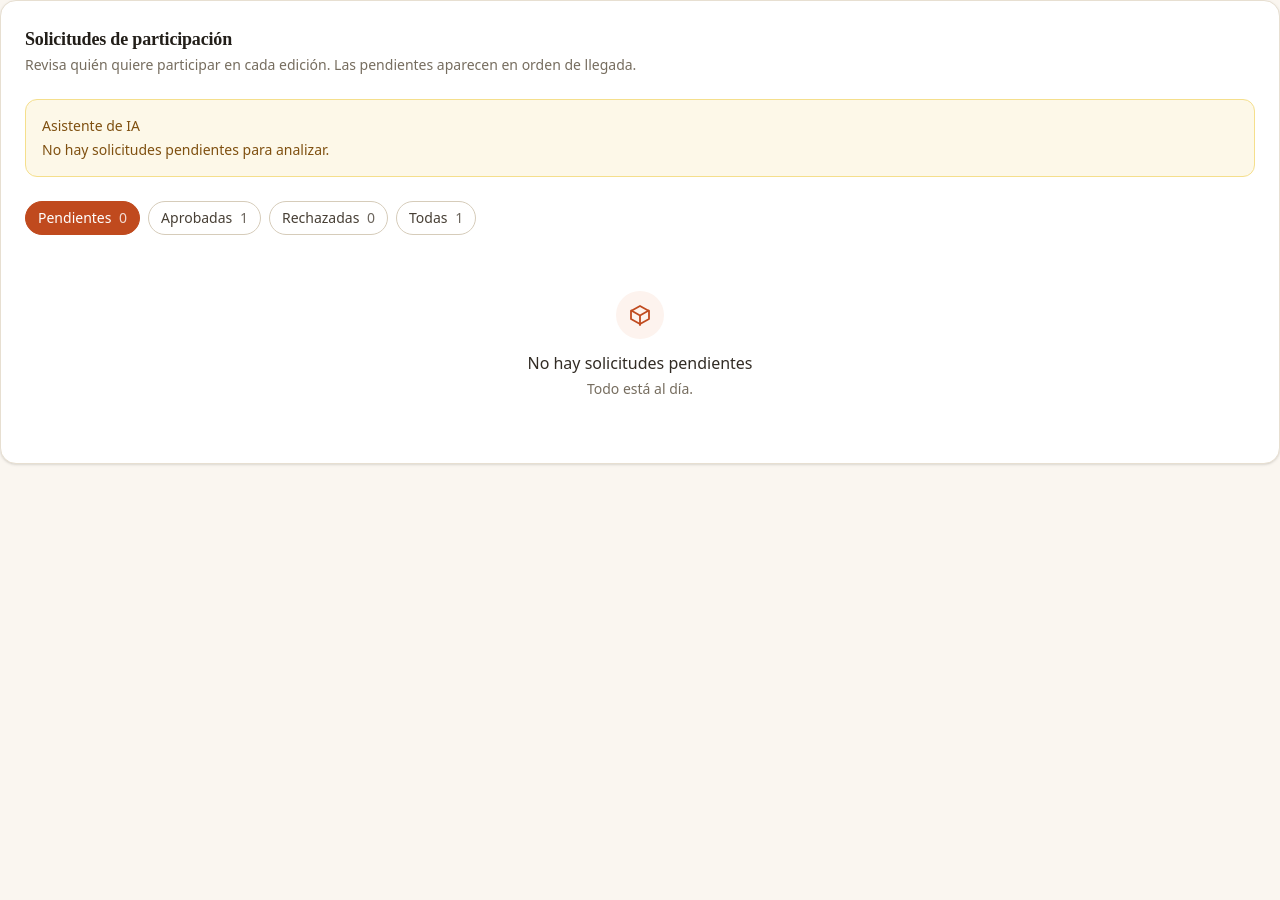
Scenario: GestionSolicitudes: acciones › cambiar una aprobada a rechazada pide confirmación
Step 1. Click the button "Aprobadas 1" → click(204, 218), box [148, 201, 261, 235]
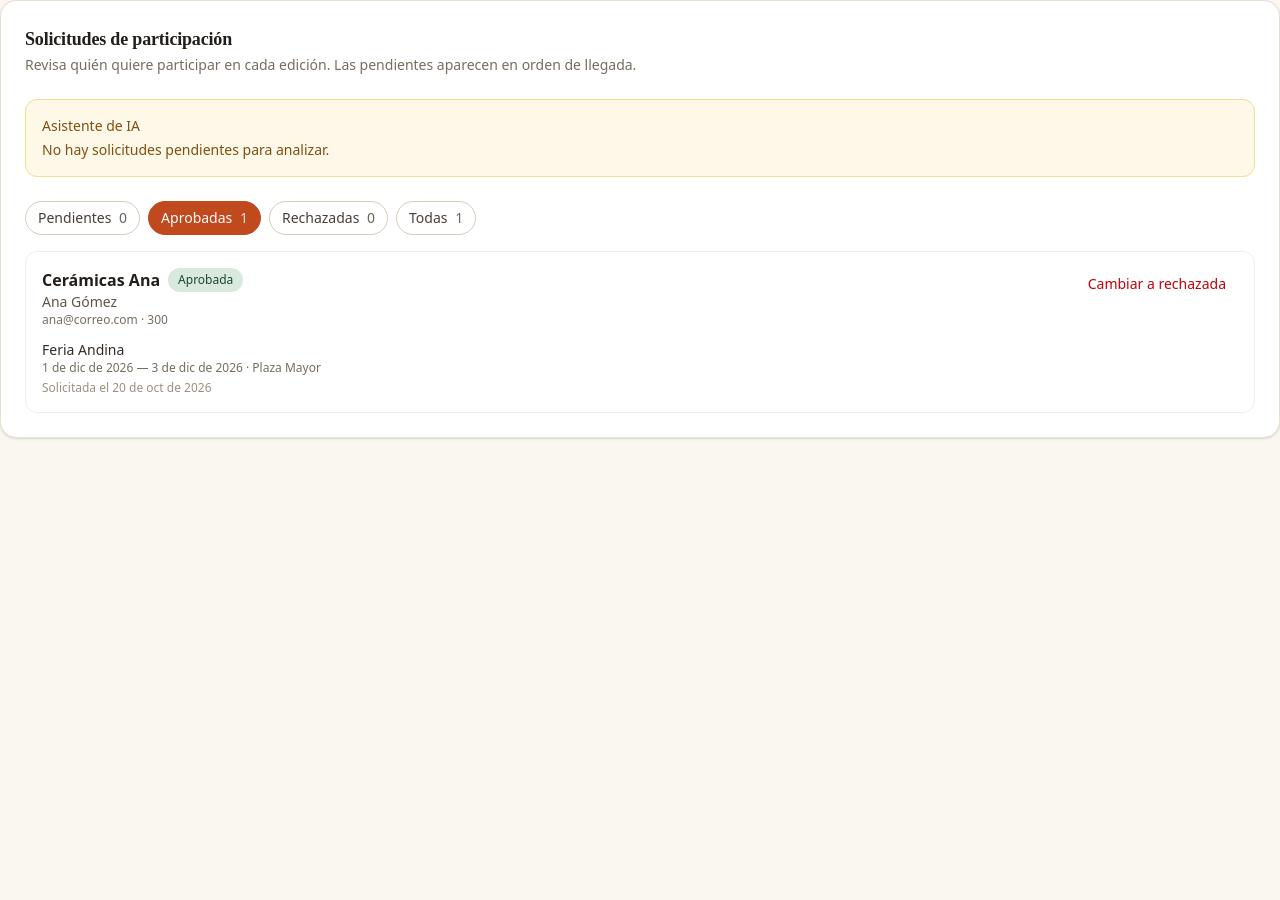
Step 2. Click the button "Cambiar a rechazada" → click(1157, 284), box [1076, 268, 1238, 300]
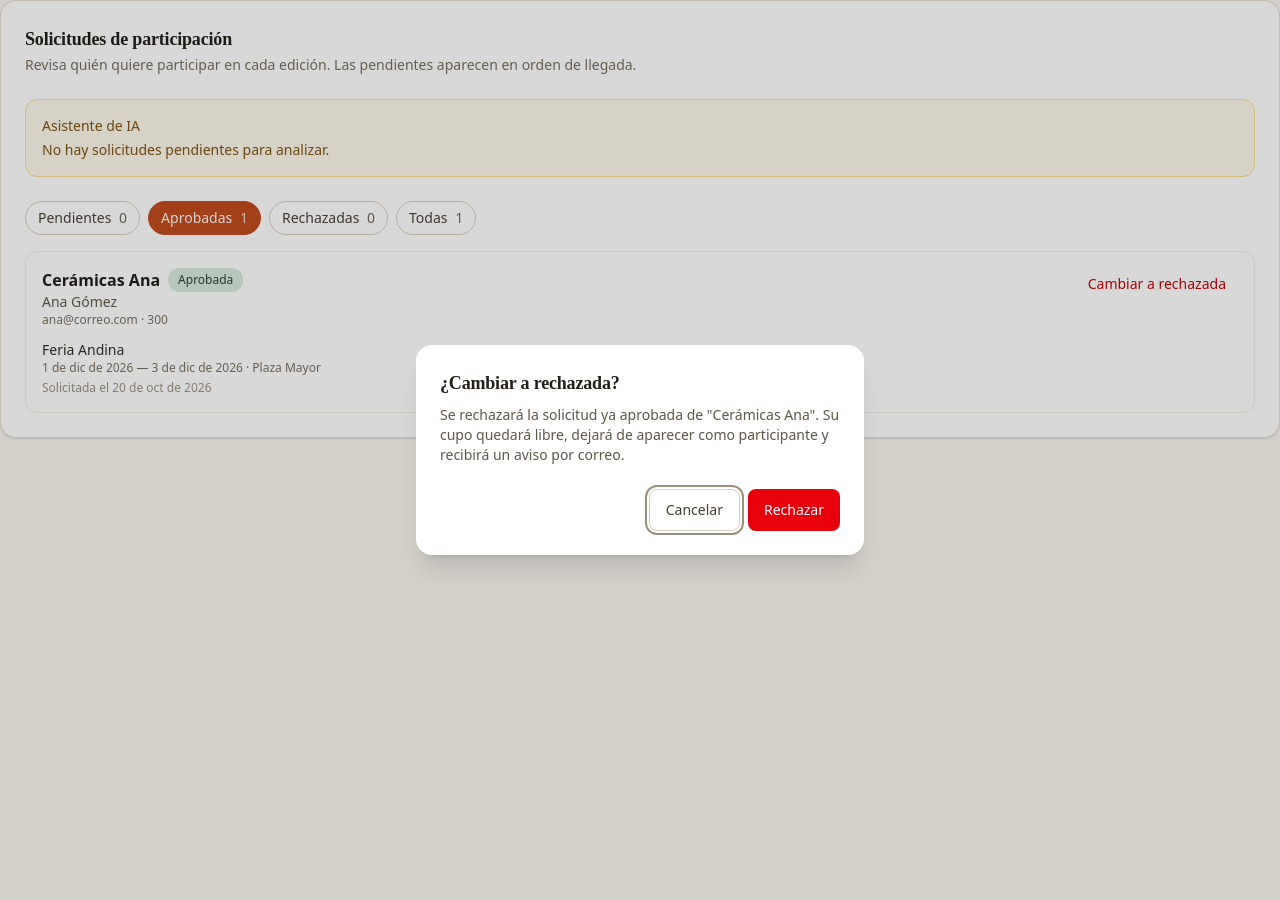
Expected: the heading "¿Cambiar a rechazada?" is shown, [440, 373, 620, 393]
Expected: the text "ya aprobada de \"Cerámicas Ana\"" is shown, [440, 405, 839, 464]
Step 3. Click the button "Rechazar" → click(794, 510), box [748, 489, 840, 531]
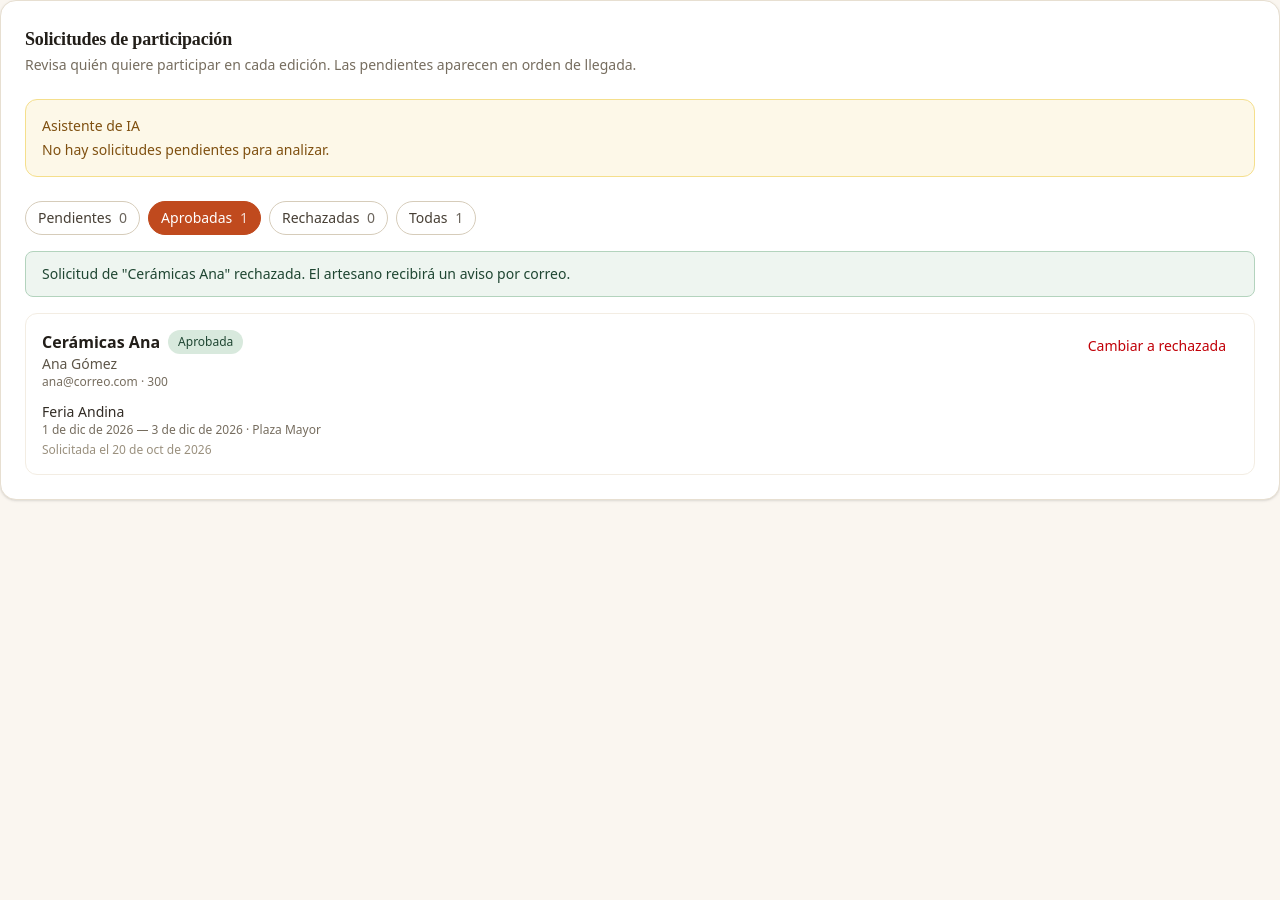
Expected: the dialog is gone
